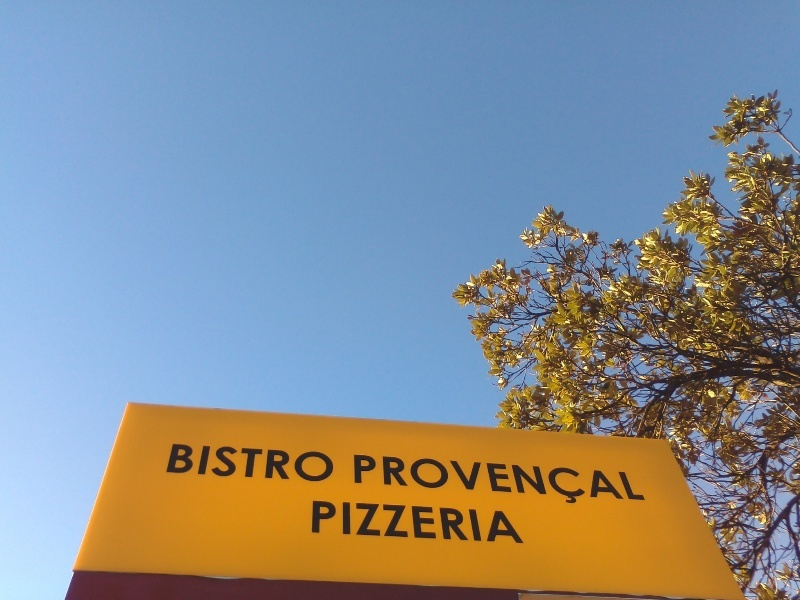text: (369, 452, 384, 509), (385, 452, 400, 509), (401, 452, 416, 509), (417, 452, 432, 509), (433, 452, 448, 509), (449, 452, 464, 509), (465, 452, 480, 509), (481, 452, 496, 509), (497, 452, 512, 509), (513, 452, 528, 509), (529, 452, 544, 509), (545, 452, 560, 509), (561, 452, 576, 509), (577, 452, 592, 509), (593, 452, 608, 509), (609, 452, 624, 509), (625, 452, 640, 509), (354, 452, 368, 509), (321, 500, 336, 544), (337, 500, 352, 544), (353, 500, 368, 544), (369, 500, 384, 544), (385, 500, 400, 544), (401, 500, 416, 544), (417, 500, 432, 544), (433, 500, 448, 544), (449, 500, 464, 544), (465, 500, 480, 544), (481, 500, 496, 544), (497, 500, 512, 544), (177, 443, 192, 484), (193, 443, 208, 484), (209, 443, 224, 484), (225, 443, 240, 484), (241, 443, 256, 484), (257, 443, 272, 484), (273, 443, 288, 484), (289, 443, 304, 484), (305, 443, 320, 484), (321, 443, 336, 484), (513, 500, 525, 544), (641, 452, 649, 509), (313, 500, 320, 544), (173, 443, 176, 484)
